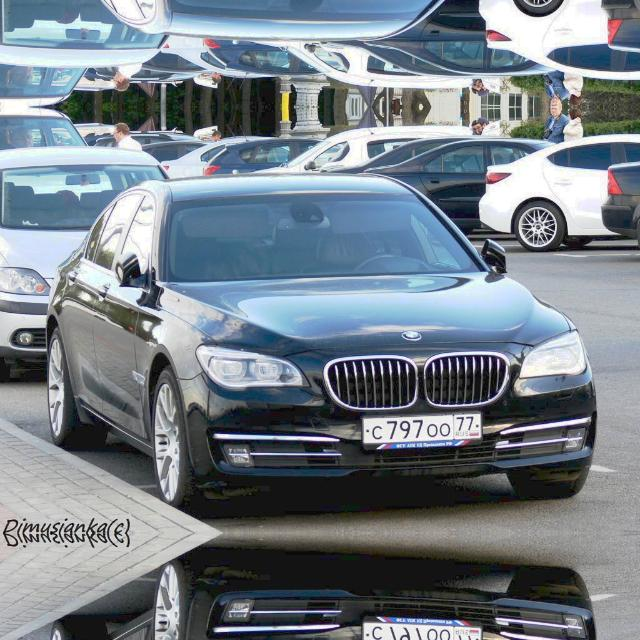citizen: (360, 408, 484, 450), (359, 615, 484, 640)
